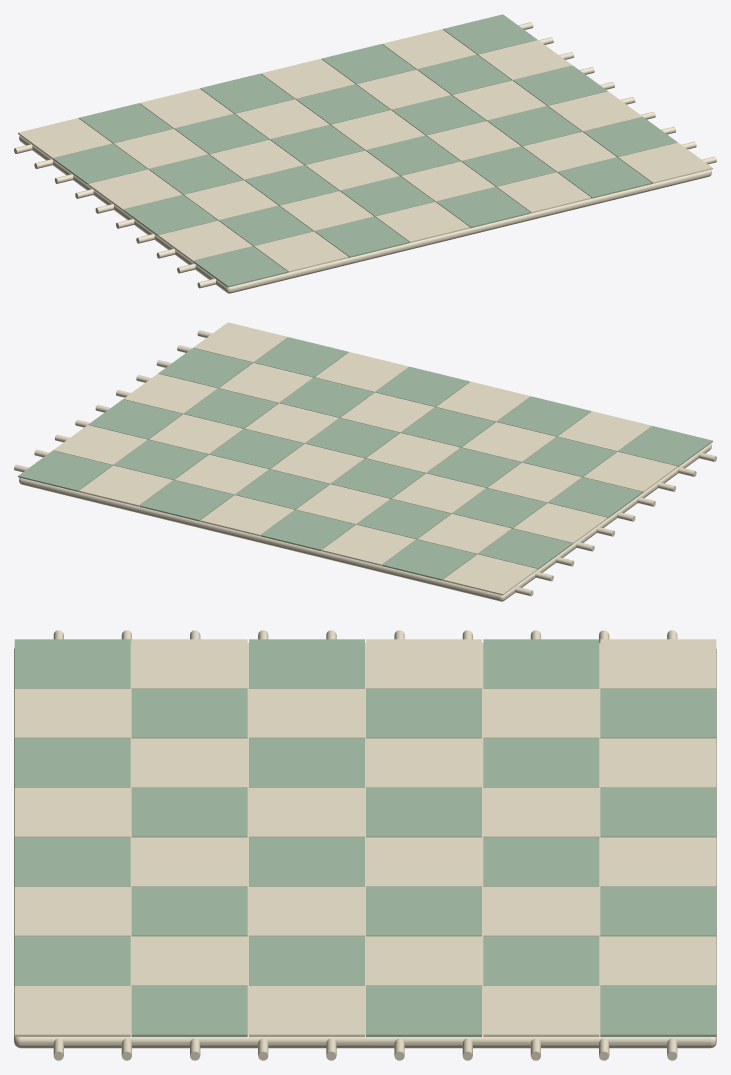
Rendered from picnic-mat.glb.
3 views of the same model, one above another, from view 1: azimuth 30°, elevation 25°; view 2: azimuth 150°, elevation 25°; view 3: azimuth 270°, elevation 25° (orthographic). The views are drawn at different scales.
Parts seen in each view (by area): view 1: Mat_padded_base, Mat_check_0_5, Mat_check_6_5, Mat_check_1_5, Mat_check_4_5, Mat_check_5_5, Mat_check_2_5, Mat_check_7_5, Mat_check_3_5, Mat_check_0_3, Mat_check_0_0, Mat_check_0_1 (+37 smaller); view 2: Mat_padded_base, Mat_check_0_0, Mat_check_6_0, Mat_check_1_0, Mat_check_4_0, Mat_check_5_0, Mat_check_2_0, Mat_check_7_0, Mat_check_3_0, Mat_check_0_2, Mat_check_0_1, Mat_check_0_3 (+37 smaller); view 3: Mat_padded_base, Mat_check_7_0, Mat_check_7_1, Mat_check_7_4, Mat_check_7_5, Mat_check_7_2, Mat_check_7_3, Mat_check_1_0, Mat_check_1_1, Mat_check_1_4, Mat_check_1_5, Mat_check_3_0 (+37 smaller).
Boxes of the visible parts, box(x1,y1,x2,y2) form: Mat_padded_base: box(19, 135, 711, 293); Mat_check_0_5: box(193, 246, 287, 287); Mat_check_6_5: box(557, 157, 652, 198); Mat_check_1_5: box(254, 231, 348, 272); Mat_check_4_5: box(436, 187, 530, 228); Mat_check_5_5: box(497, 172, 591, 213); Mat_check_2_5: box(314, 216, 409, 257); Mat_check_7_5: box(618, 142, 712, 183); Mat_check_3_5: box(375, 202, 469, 242); Mat_check_0_3: box(123, 195, 217, 235); Mat_check_0_0: box(18, 118, 112, 158); Mat_check_0_1: box(53, 143, 147, 184); Mat_padded_base: box(19, 443, 711, 601); Mat_check_0_0: box(443, 554, 537, 595); Mat_check_6_0: box(78, 465, 173, 506); Mat_check_1_0: box(382, 539, 476, 580); Mat_check_4_0: box(200, 495, 294, 536); Mat_check_5_0: box(139, 480, 233, 521); Mat_check_2_0: box(321, 524, 416, 565); Mat_check_7_0: box(18, 450, 112, 491); Mat_check_3_0: box(261, 510, 355, 550); Mat_check_0_2: box(513, 503, 607, 543); Mat_check_0_1: box(478, 528, 572, 569); Mat_check_0_3: box(548, 477, 642, 518); Mat_padded_base: box(14, 643, 716, 1048); Mat_check_7_0: box(600, 985, 716, 1036); Mat_check_7_1: box(483, 985, 599, 1036); Mat_check_7_4: box(131, 985, 247, 1036); Mat_check_7_5: box(14, 985, 130, 1036); Mat_check_7_2: box(366, 985, 481, 1036); Mat_check_7_3: box(249, 985, 364, 1036); Mat_check_1_0: box(600, 688, 716, 738); Mat_check_1_1: box(483, 688, 599, 738); Mat_check_1_4: box(131, 688, 247, 738); Mat_check_1_5: box(14, 688, 130, 738); Mat_check_3_0: box(600, 787, 716, 837).
Size of the model in its own units: 2.34 by 0.04 by 1.65.
